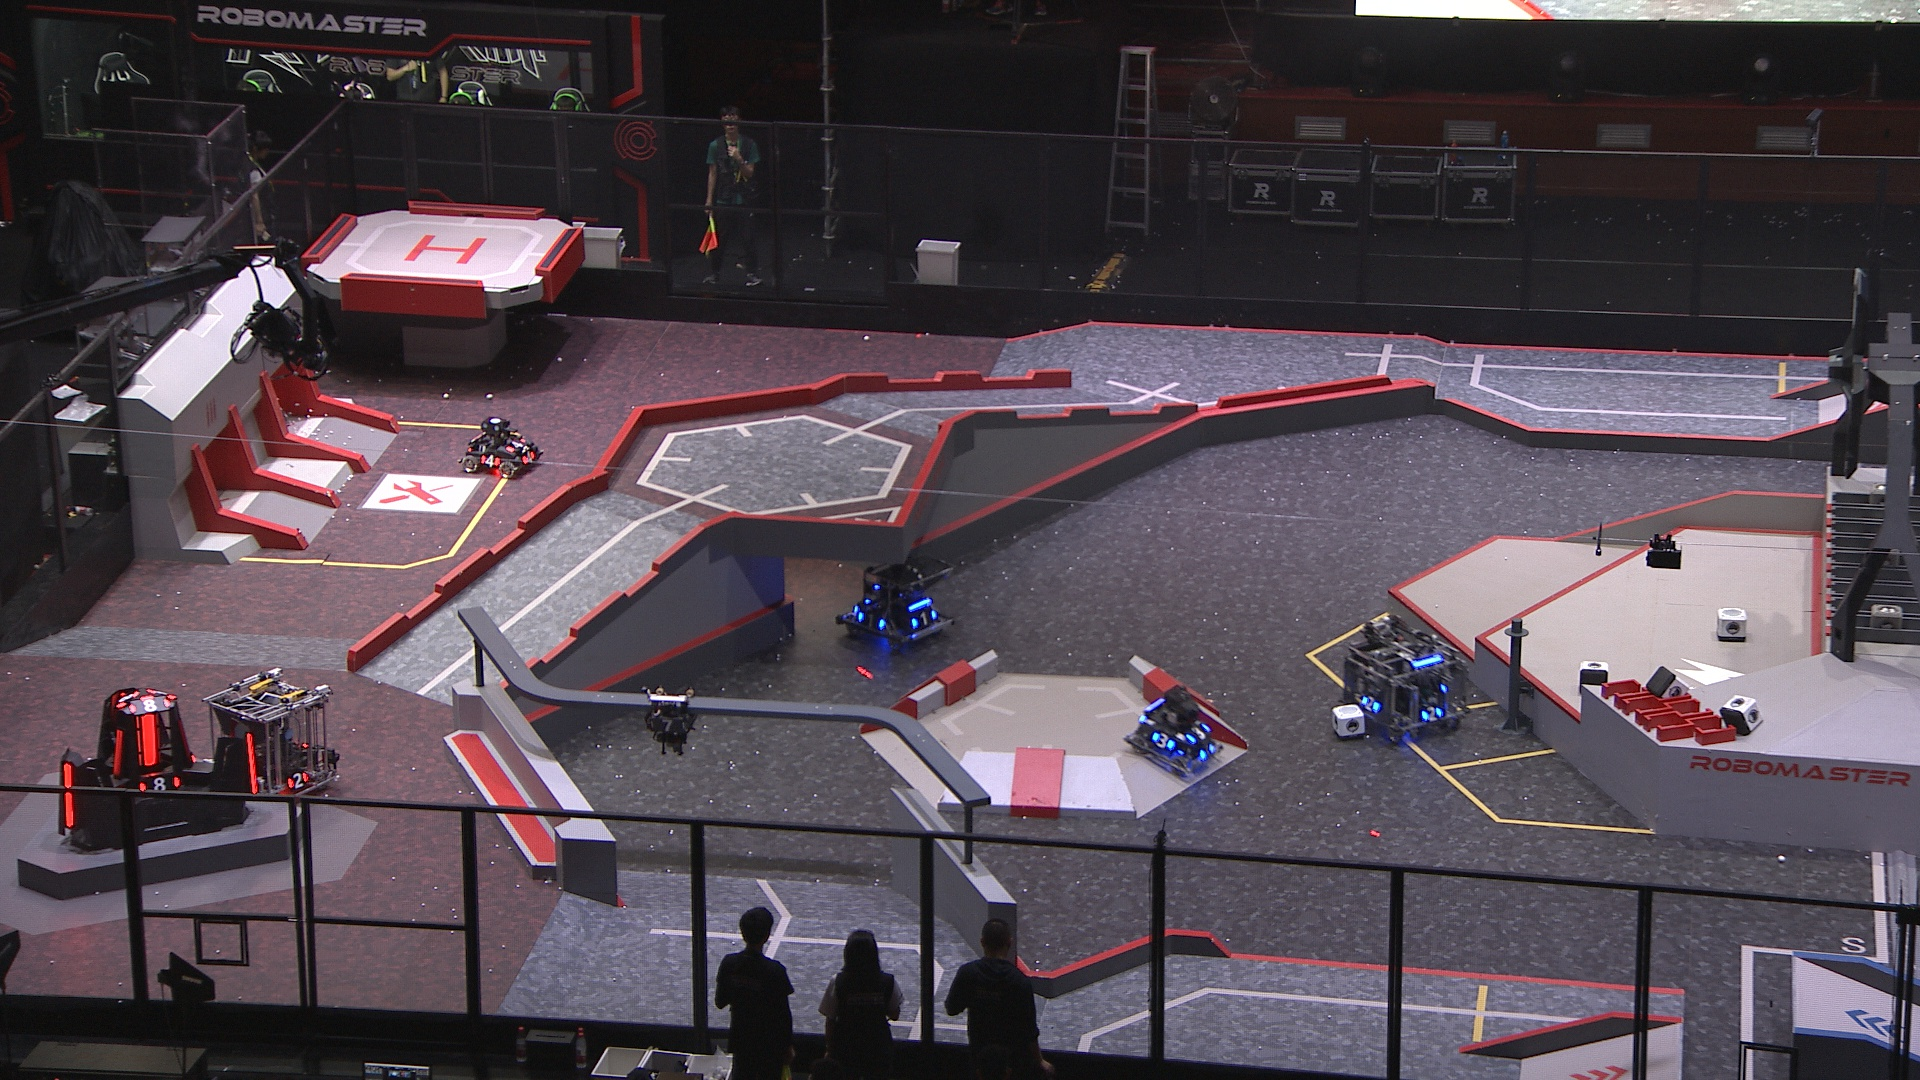armor: (135, 713, 161, 765), (62, 764, 76, 828), (138, 777, 182, 796), (245, 732, 258, 796), (127, 698, 173, 713), (646, 717, 688, 735), (910, 611, 939, 632), (1185, 723, 1212, 745), (1150, 732, 1176, 752), (855, 612, 885, 629), (285, 770, 313, 789), (1419, 704, 1447, 723), (1360, 698, 1385, 717), (113, 690, 136, 708), (112, 731, 121, 775), (480, 454, 505, 469), (502, 436, 526, 452), (518, 448, 538, 467), (1199, 742, 1215, 760)
base: (54, 684, 262, 855)
car: (200, 669, 342, 807), (1338, 615, 1466, 742), (835, 553, 963, 647), (1124, 680, 1222, 774), (458, 417, 543, 479)
watcher: (642, 687, 700, 756)
